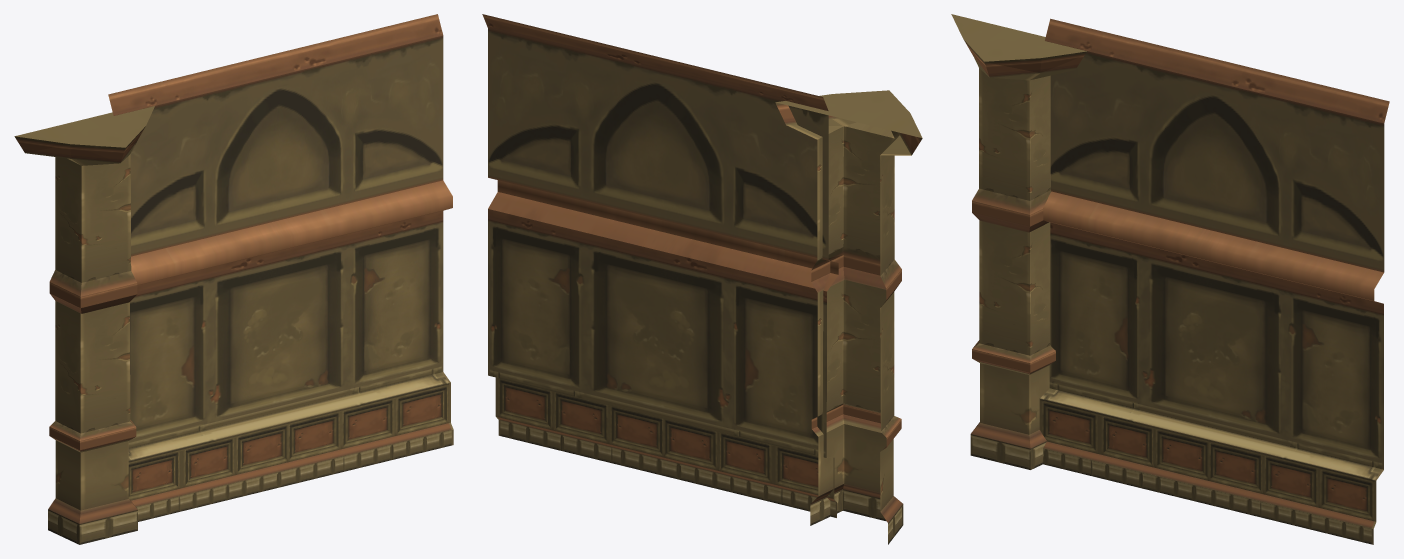
The model's file is wall big 4.FBX.
The picture shows the model from 3 angles, left to right: view 1: azimuth 30°, elevation 25°; view 2: azimuth 150°, elevation 25°; view 3: azimuth 330°, elevation 25°; orthographic projection. The views are drawn at different scales.
Parts seen in each view (by area): view 1: wall big 4; view 2: wall big 4; view 3: wall big 4.
Part boxes in pixels (<box>): wall big 4: <box>14,14,453,544</box>; wall big 4: <box>482,14,922,544</box>; wall big 4: <box>951,14,1389,544</box>.
Size of the model in its own units: 1048 by 989 by 175.
